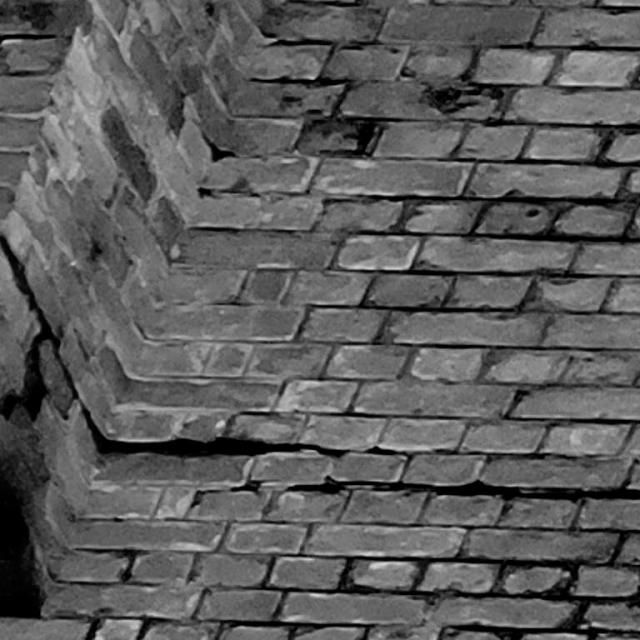crack: (1, 234, 348, 458), (228, 476, 638, 499)
